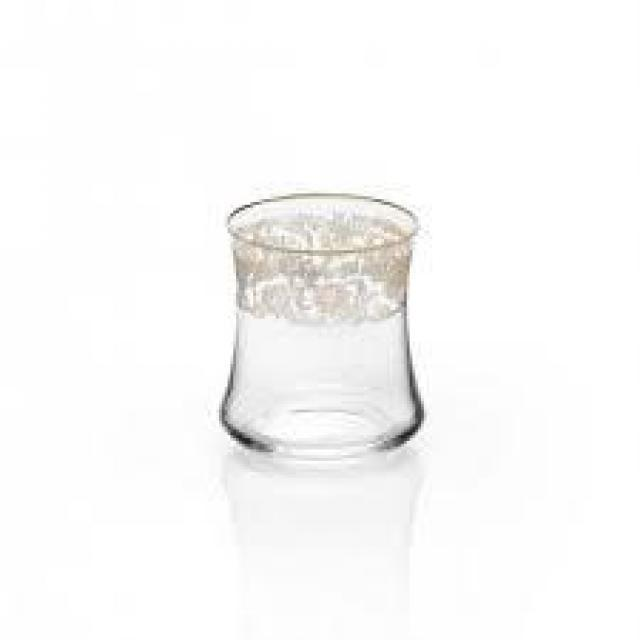glass: (210, 187, 432, 463)
